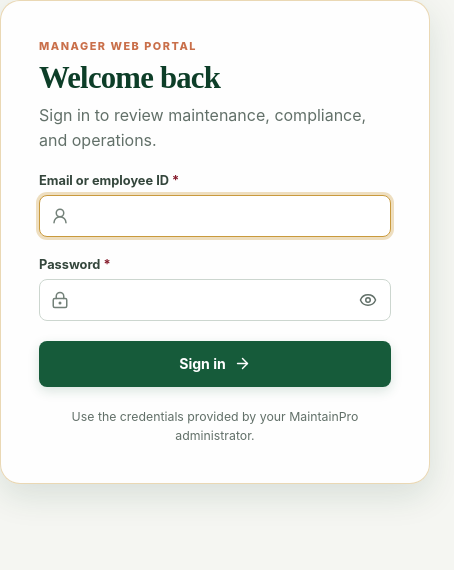
Test: LoginForm › validates required credentials before submitting
Click the button "Sign in" at (215, 364), box top-left (39, 341), bottom-right (391, 387)
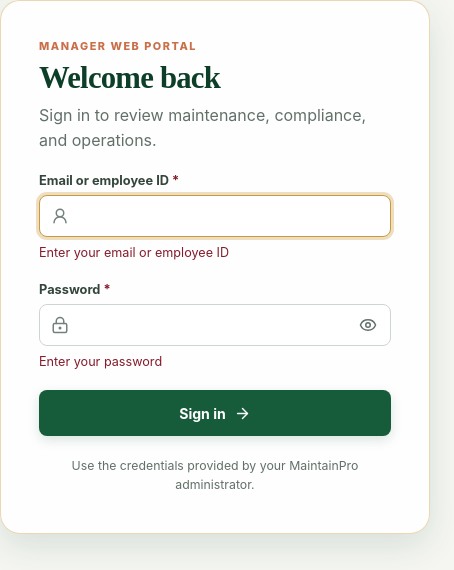
Check: the text "Enter your email or employee ID" is shown, box top-left (39, 245), bottom-right (229, 260)
Check: the text "Enter your password" is shown, box top-left (39, 354), bottom-right (162, 369)
